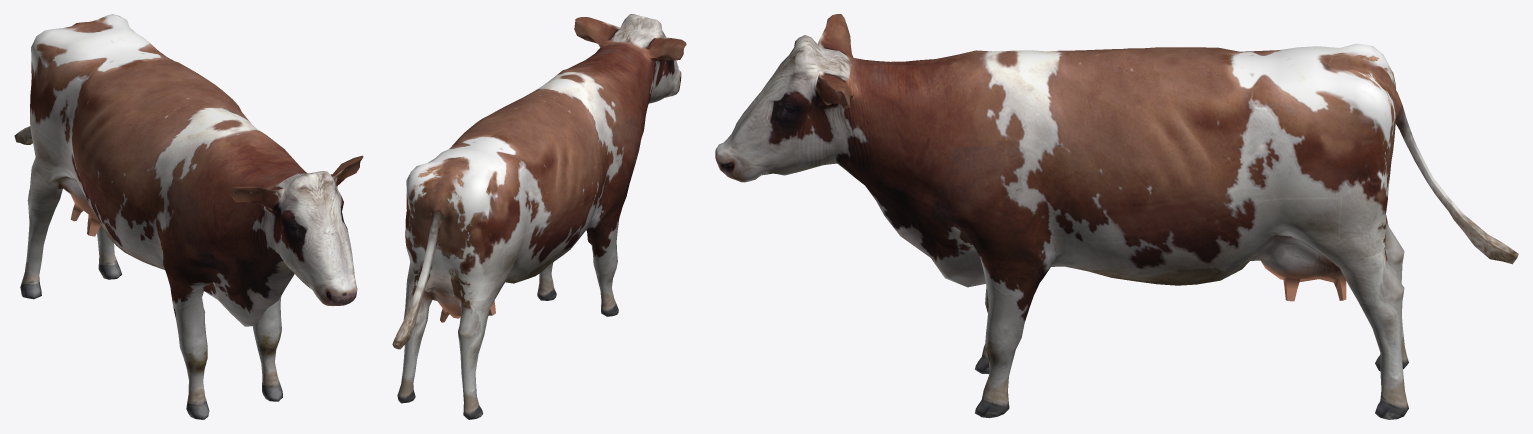
File: cow_1.glb
The picture shows the model from 3 angles, left to right: view 1: azimuth 30°, elevation 25°; view 2: azimuth 150°, elevation 25°; view 3: azimuth 270°, elevation 25°; orthographic projection. The views are drawn at different scales.
Visible parts, largest first — view 1: Object_2; view 2: Object_2; view 3: Object_2.
Boxes of the visible parts, x1,y1,x2,y2 form: Object_2: (14, 14, 363, 419); Object_2: (392, 14, 686, 419); Object_2: (715, 14, 1518, 419).
Size of the model in its own units: 0.7396 by 1.43 by 2.97.
Materials: 1 (1 with a texture image).
